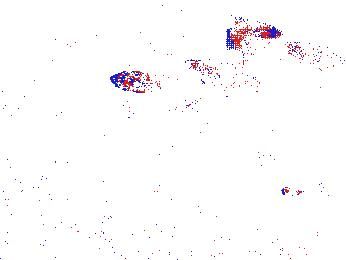X-ray fish: (106, 69, 161, 93)
red belly glassfish: (215, 143, 276, 167), (279, 181, 330, 202)
redtail glassfish: (183, 56, 273, 97), (120, 91, 206, 125), (283, 40, 346, 78), (222, 15, 286, 49)
